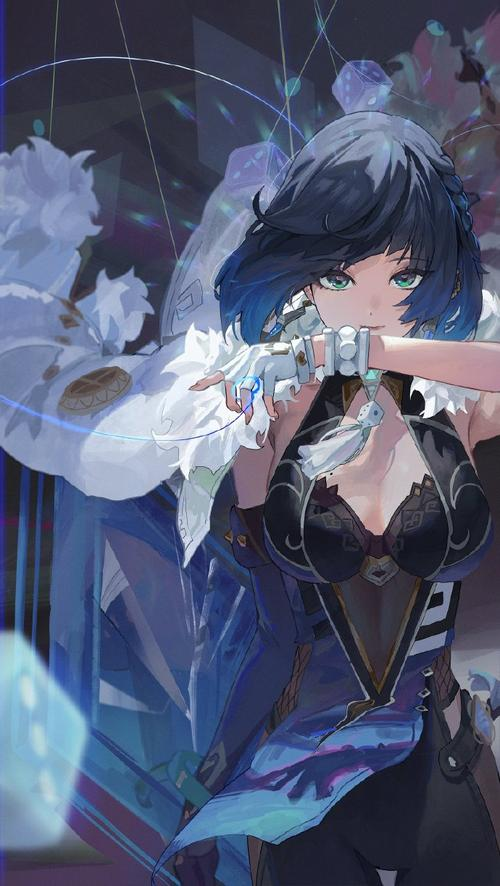夜兰: (176, 106, 500, 883)
